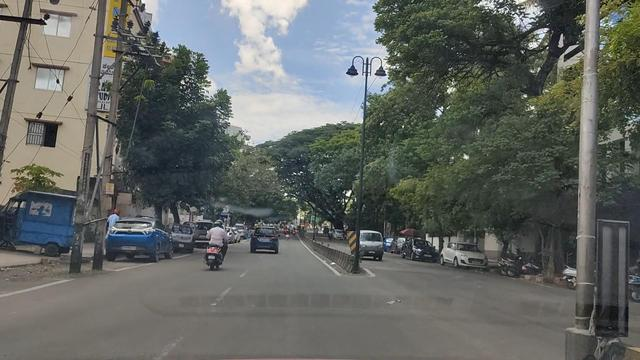LMV: (209, 225, 230, 273)
